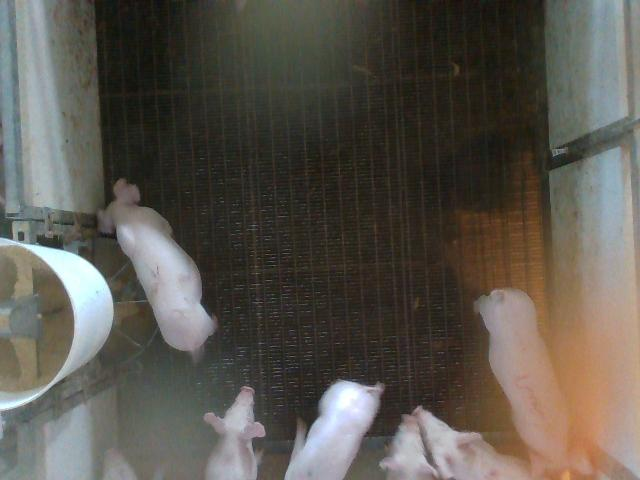pig-3: (475, 289, 569, 477), (571, 450, 592, 472)
